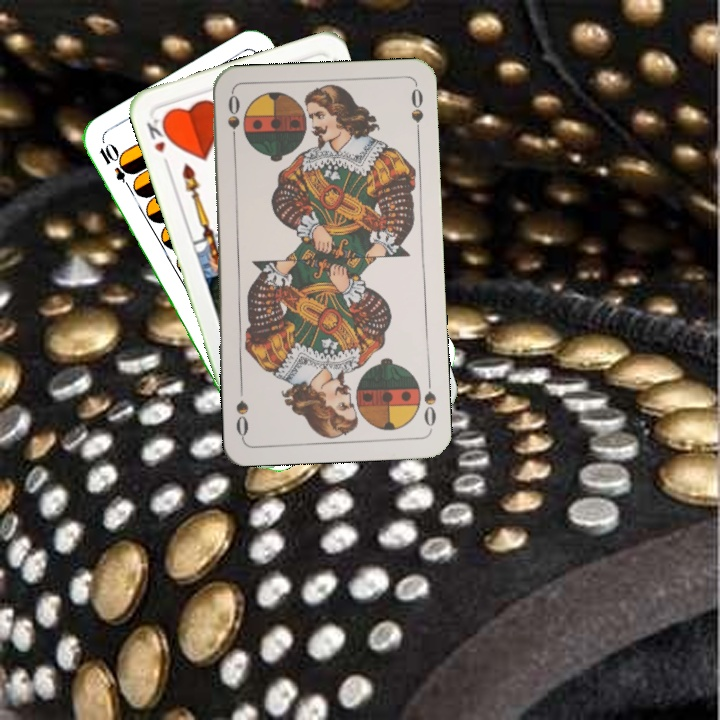E10: (95, 140, 137, 195)
HK: (142, 113, 174, 171)
SO: (420, 373, 439, 432), (224, 91, 242, 150)
